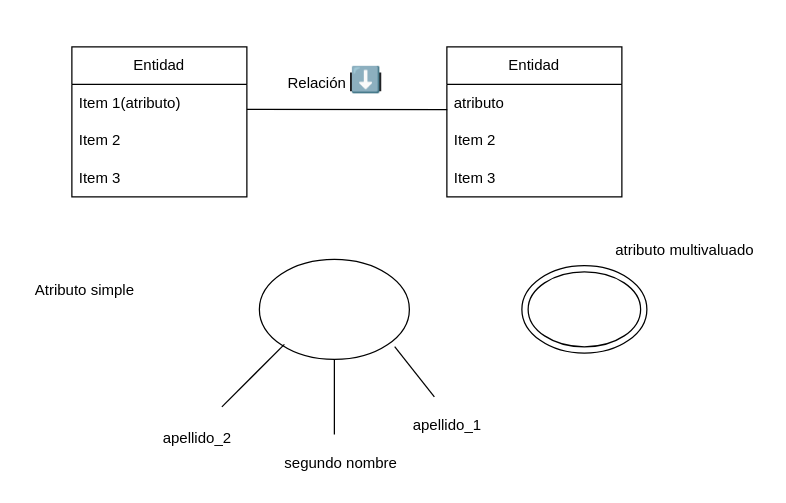
This 786x503 diagram has some shape labels left out. The shapes that lost their labels are listed below. From the top down, each one's box as (x1, y1, x2, y2) in pixels, then its label:
(258, 258, 409, 359): Nombre (atributo derivado)
(527, 271, 641, 347): Telefonos
